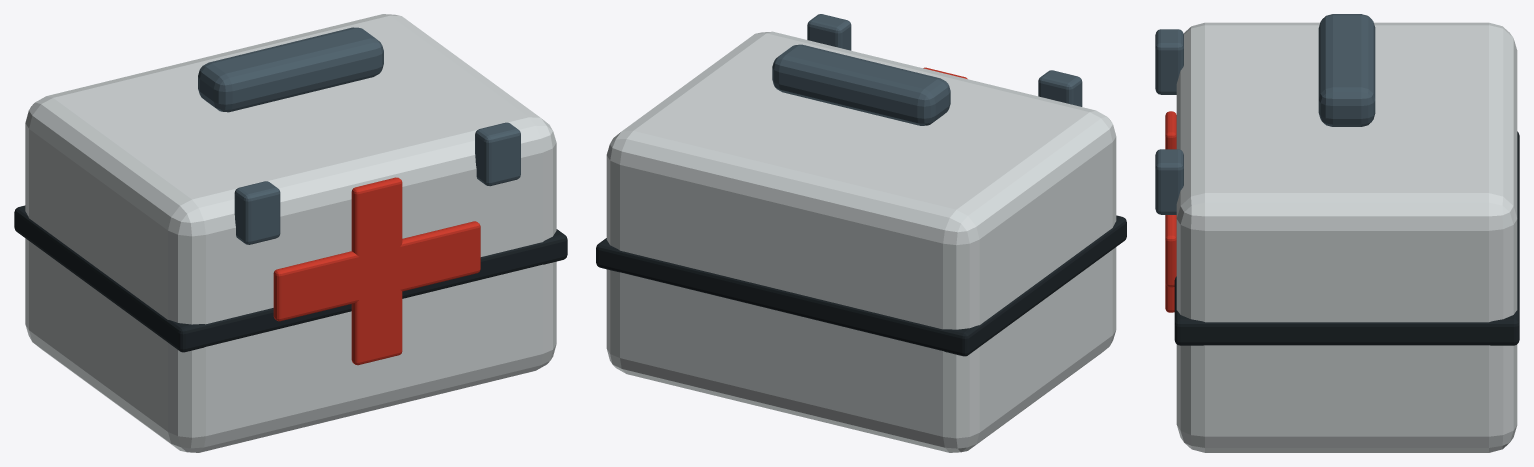
The model's file is SM_BotiquinTemporal.fbx.
The picture shows the model from 3 angles, left to right: view 1: azimuth 30°, elevation 25°; view 2: azimuth 150°, elevation 25°; view 3: azimuth 270°, elevation 25°; orthographic projection. The views are drawn at different scales.
Parts seen in each view (by area): view 1: SM_BotiquinTemporal; view 2: SM_BotiquinTemporal; view 3: SM_BotiquinTemporal.
Boxes of the visible parts, x1,y1,x2,y2 form: SM_BotiquinTemporal: (14,14,567,452); SM_BotiquinTemporal: (596,14,1126,452); SM_BotiquinTemporal: (1155,14,1519,452).
Size of the model in its own units: 32.3 by 25.65 by 24.5.
